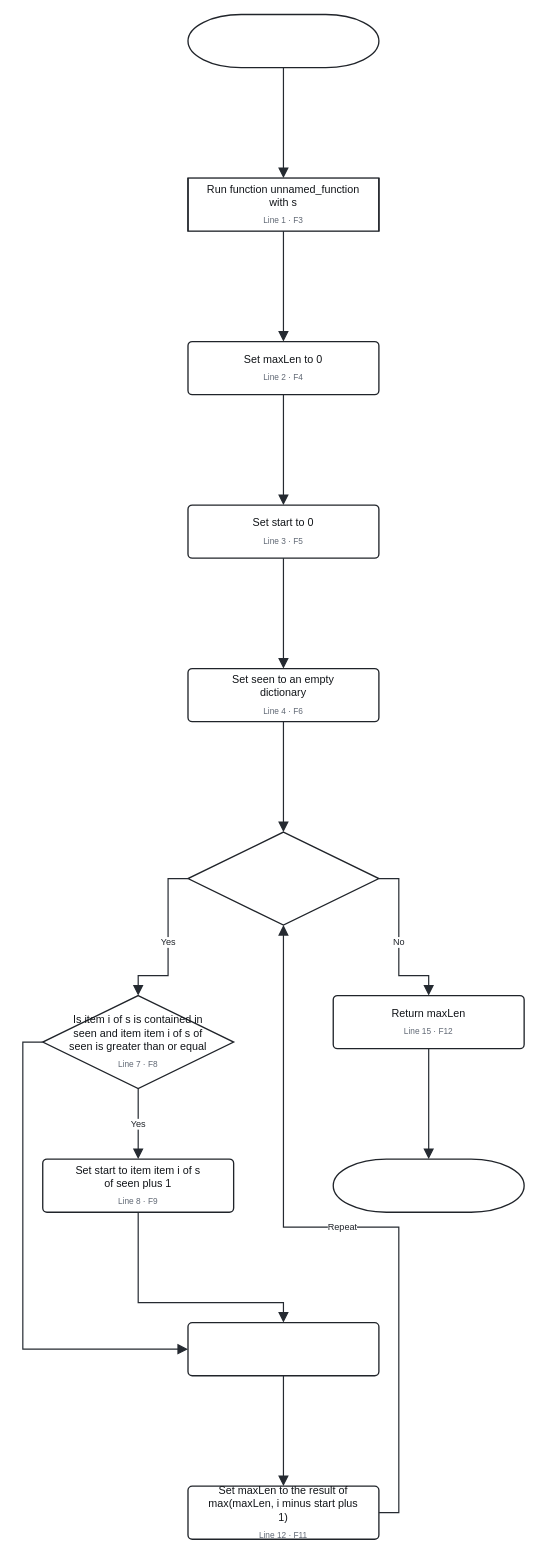
This 540x1556 diagram has some shape labels left out. Here are the shapes that lost their labels. From the top down, the box of each, then its label:
(187, 13, 379, 68): Start Line 1 · F1
(187, 831, 379, 925): For i from 0 to the length of s minus 1 plus 1 Line 6 · F7
(332, 1158, 524, 1212): End Line 1 · F2
(187, 1322, 379, 1376): Set item item i of s of seen to i Line 11 · F10
